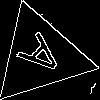A: (15, 31, 74, 87)
